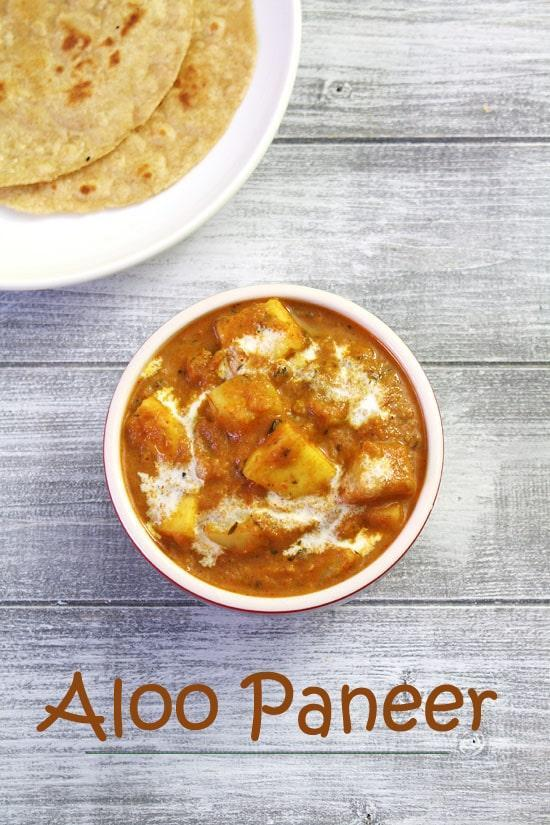paneer: (171, 368, 375, 550)
roti: (0, 11, 208, 166)
